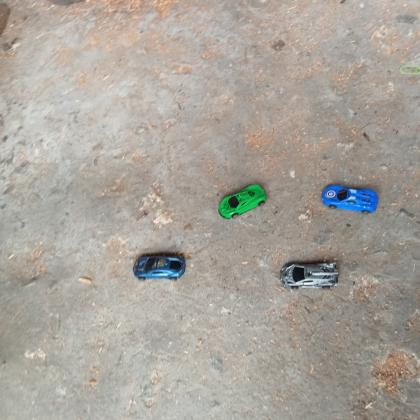Car: (322, 183, 380, 215), (217, 184, 267, 220), (280, 261, 340, 290), (132, 254, 186, 282)
